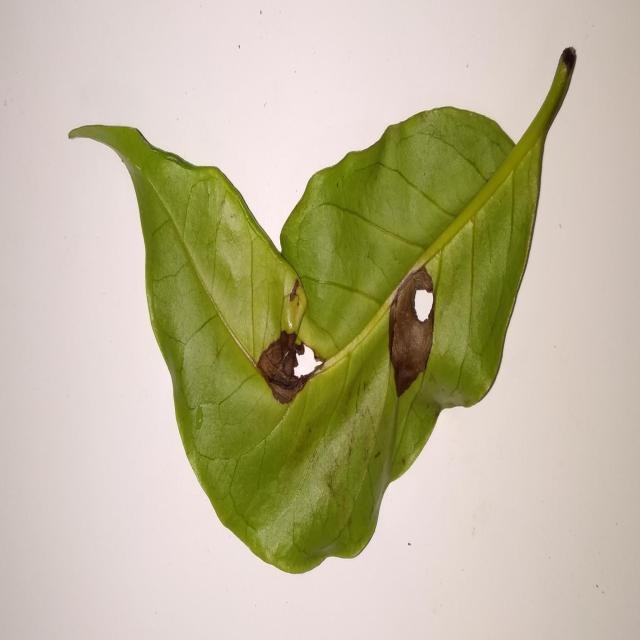phoma: (388, 266, 435, 397), (257, 331, 319, 404)
